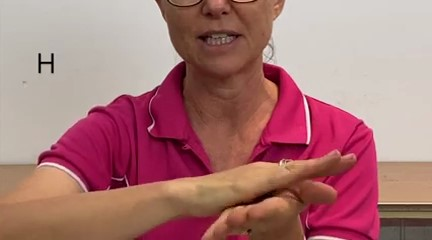H: (171, 136, 372, 240)
